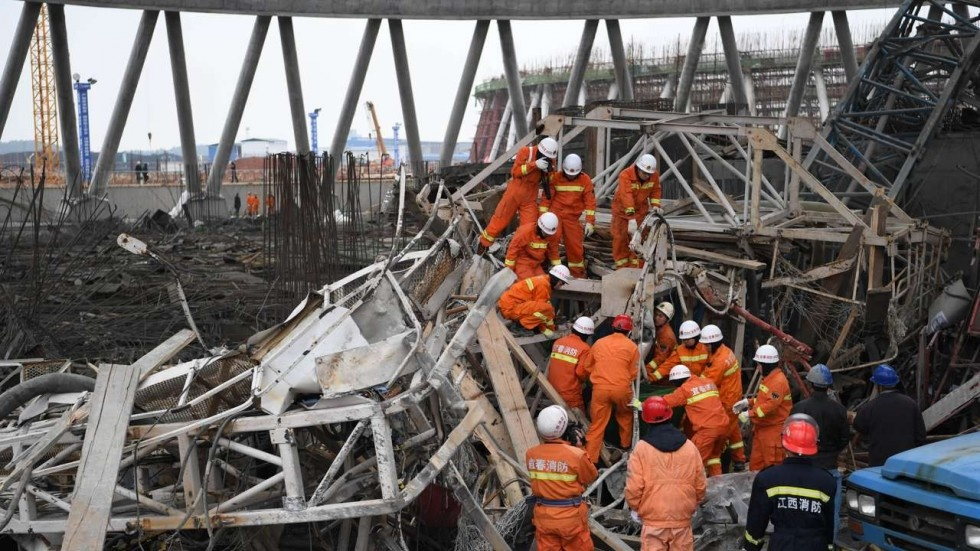blue: (870, 363, 899, 394), (806, 363, 832, 394)
red: (781, 420, 818, 460), (642, 394, 673, 428), (611, 314, 633, 335)
white: (535, 405, 572, 442), (752, 344, 779, 374), (698, 325, 723, 352), (636, 153, 657, 181), (678, 320, 700, 346), (548, 264, 569, 291), (536, 213, 558, 237), (652, 302, 674, 326), (573, 317, 594, 342), (562, 153, 581, 180), (536, 138, 558, 161)
